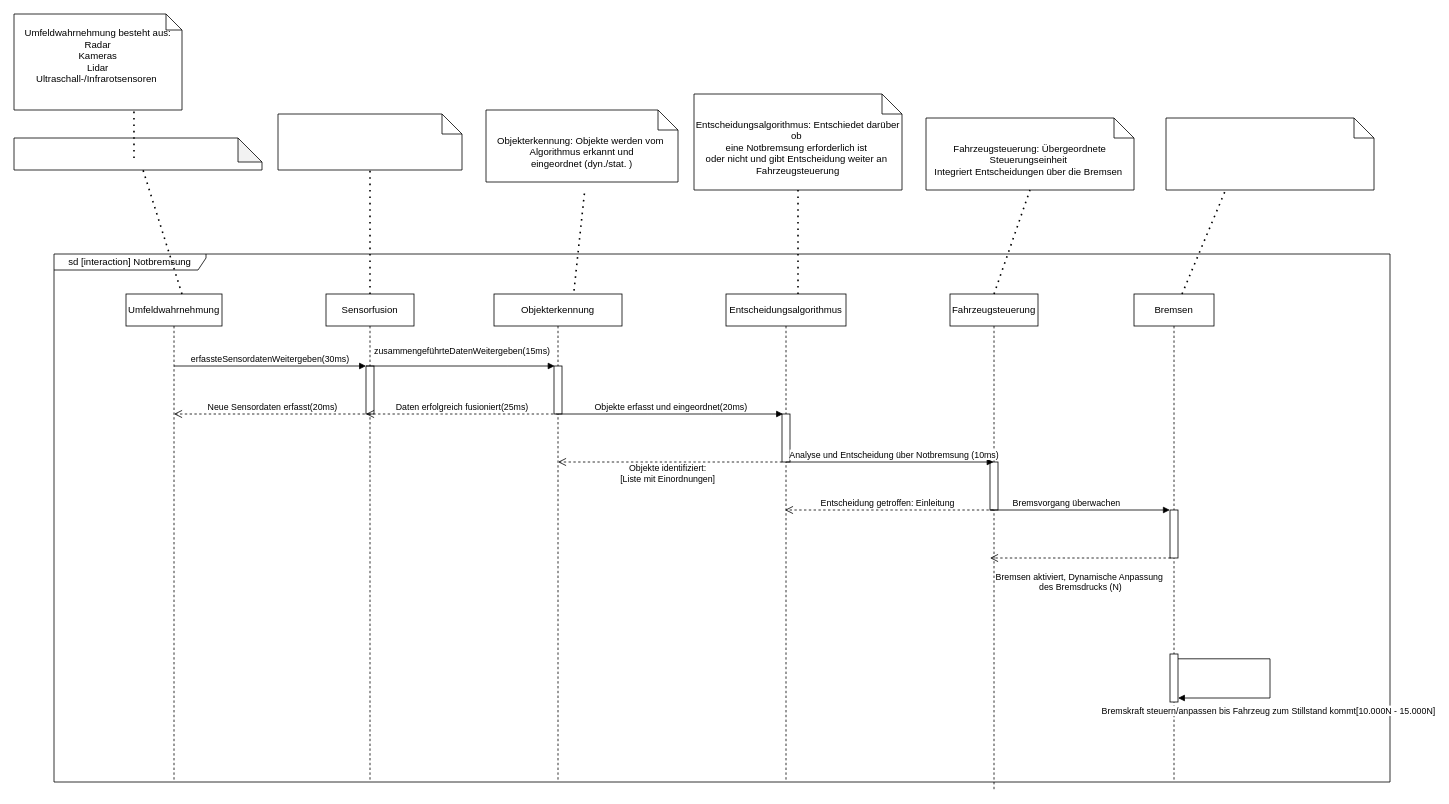
The diagram is 1449 pixels wide and 804 high, and some of its shapes have lost their labels. The shapes that lost their labels are listed below. From the top down, each one's box as (x1, y1, x2, y2) in pixels, then its label:
(13, 137, 262, 170): Umfeldwarnehmung: Erkennt Objekte in Fahrzeugumgebung
(277, 113, 462, 170): Sensorfusion: Schnittstelle zur Datenintegration
(1165, 117, 1374, 190): Bremssteuerung. Steuert Aktuatoren, hier: Bremsen
